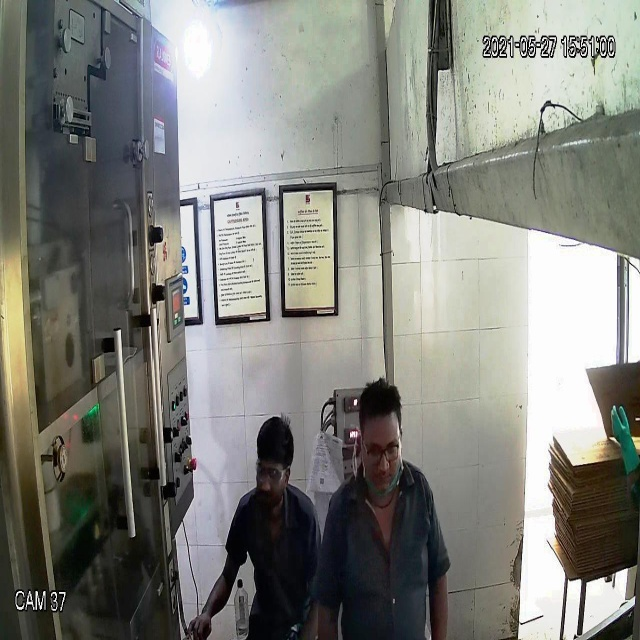Gafas: (355, 436, 405, 469), (251, 452, 290, 487)
